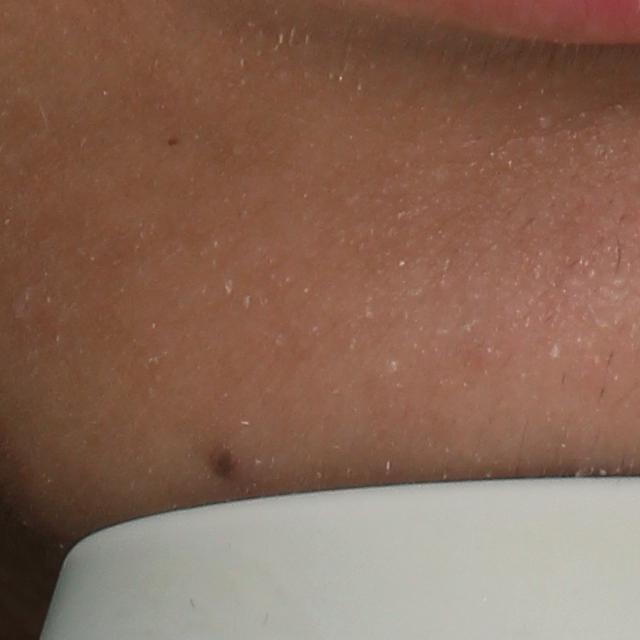nevus: (206, 440, 244, 482)
